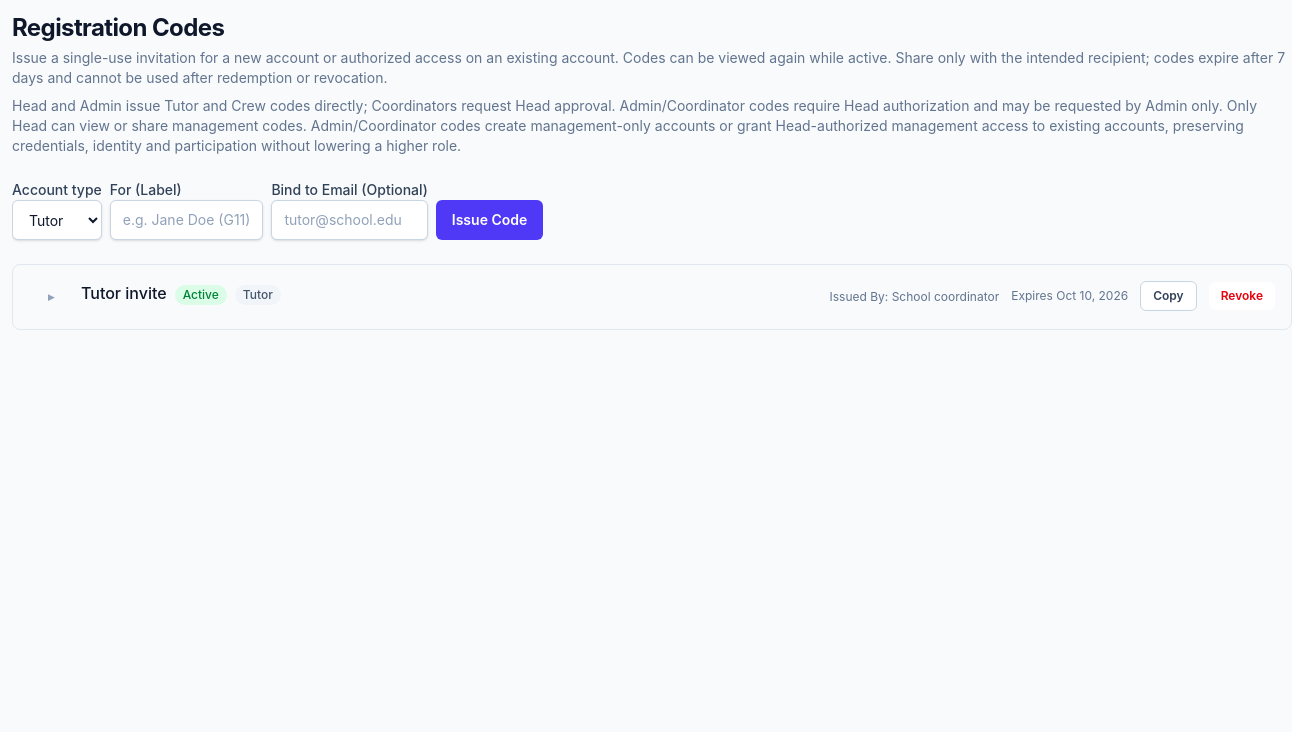
Test: registration code records › names the record disclosure and keeps its target available when closed
Click the button "▸".
click(51, 297)  # box [29, 281, 73, 313]
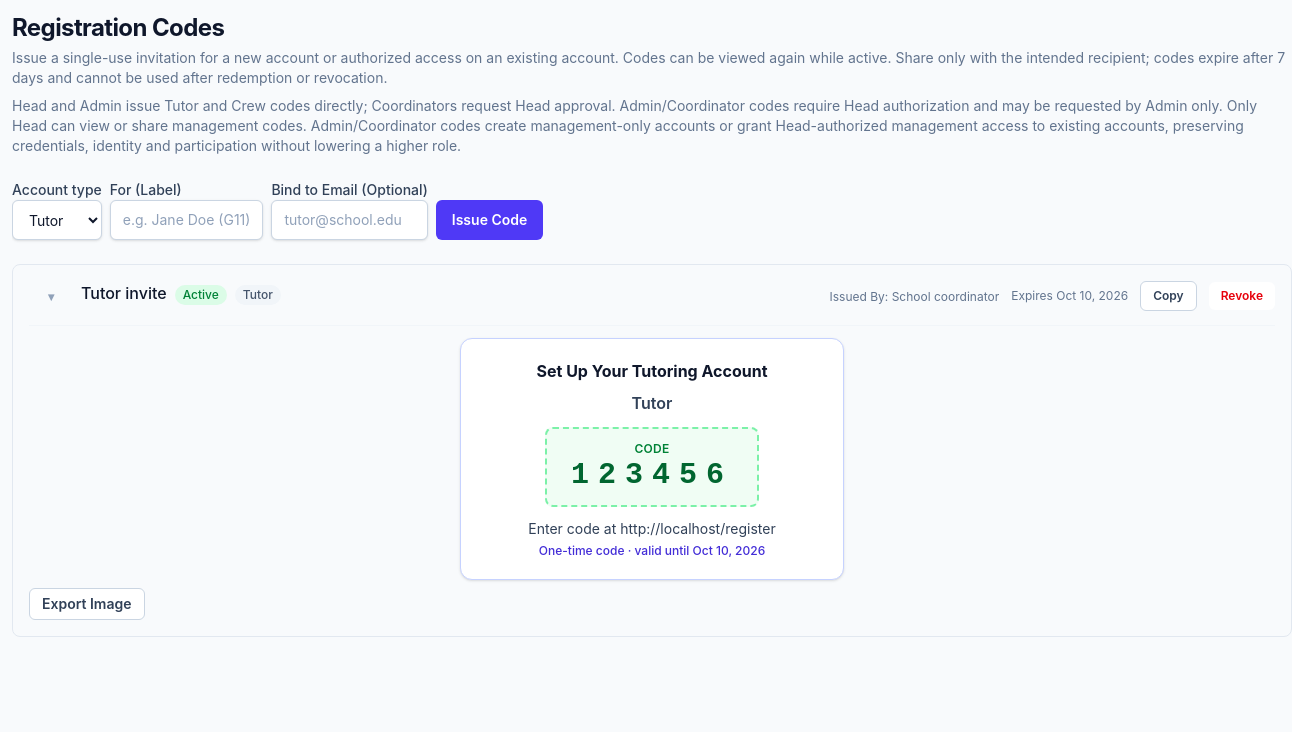
Now the text "123456" is shown, box [571, 457, 733, 493]
Click the button "▾".
click(51, 297)  # box [29, 281, 73, 313]
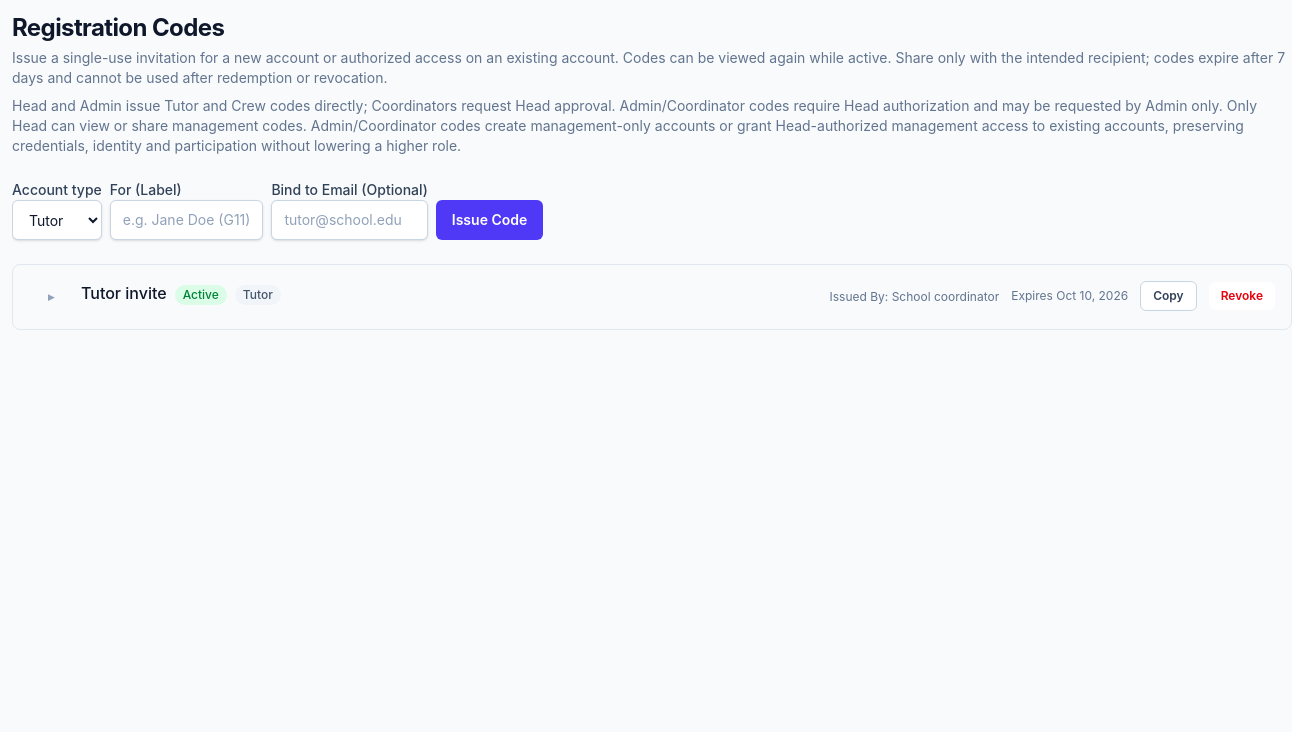
Now the text "123456" is gone
